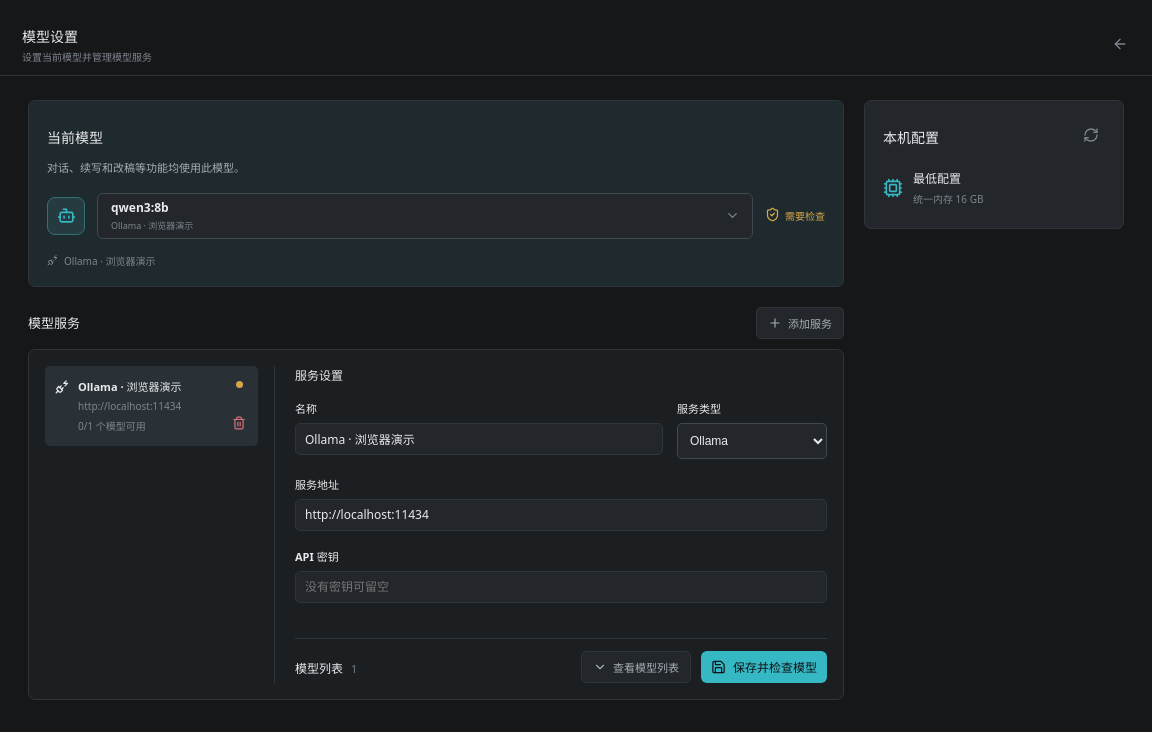
it: model settings workflow › shows structured output failure details without marking the model available
The image size is (1152, 732).
Expected: the text "0/1 个模型可用" is shown, [78,419,146,433]
Click the button "查看模型列表".
click(636, 667)  # box [581,651,691,683]
(page scrolled)
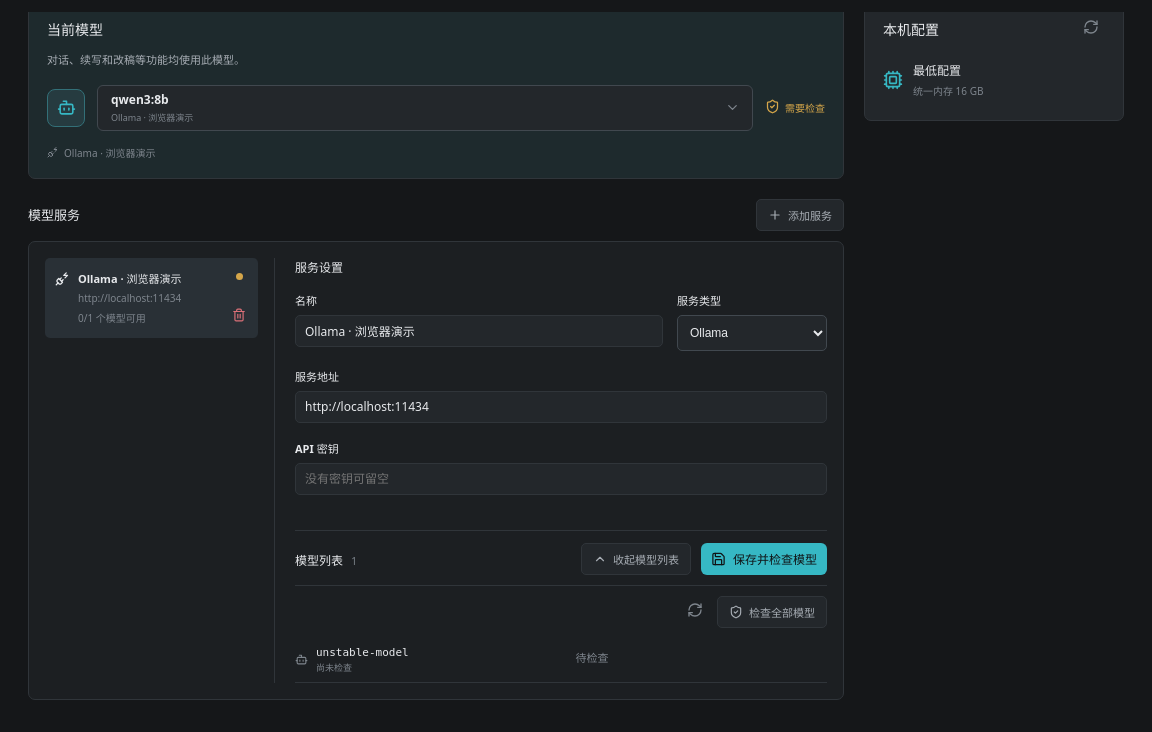
Click the button "检查全部模型".
click(772, 612)  # box [717,596,827,628]
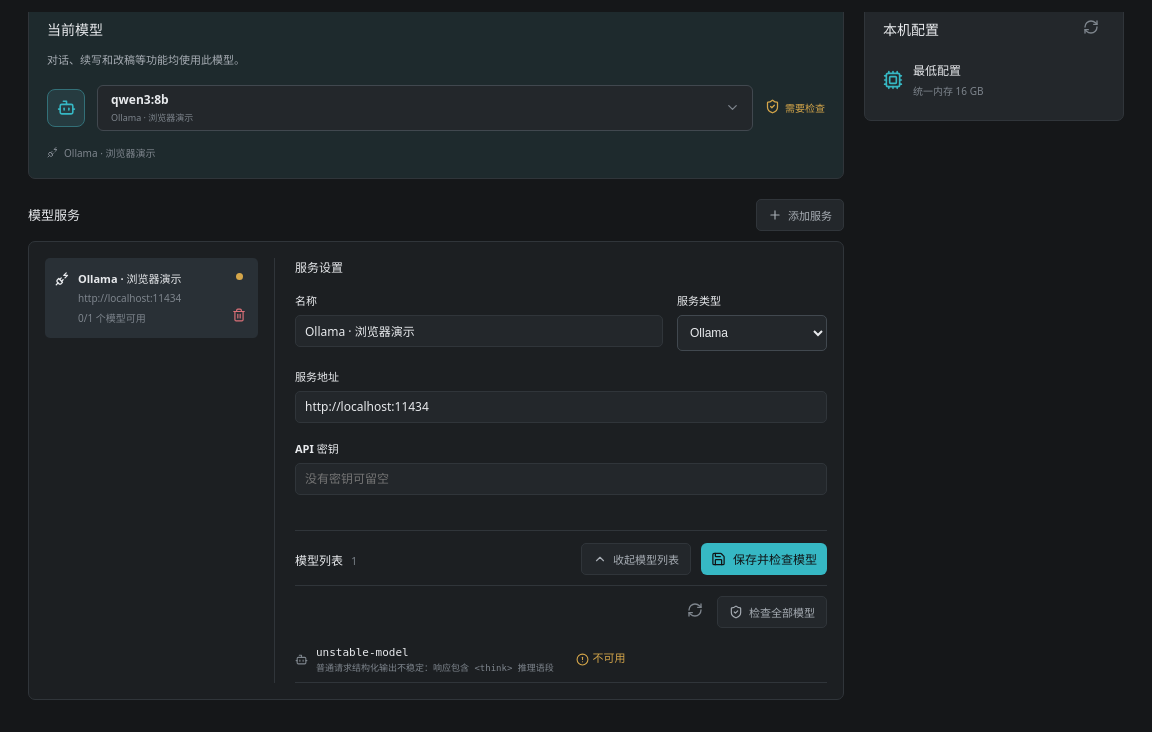
Expected: the text "0/1 个模型可用" is shown, [78,311,146,325]
Result: the text "普通请求结构化输出不稳定：响应包含 <think> 推理语段" is shown at [316,662,568,675]
Result: the text "不可用" is shown at [576,652,626,666]
